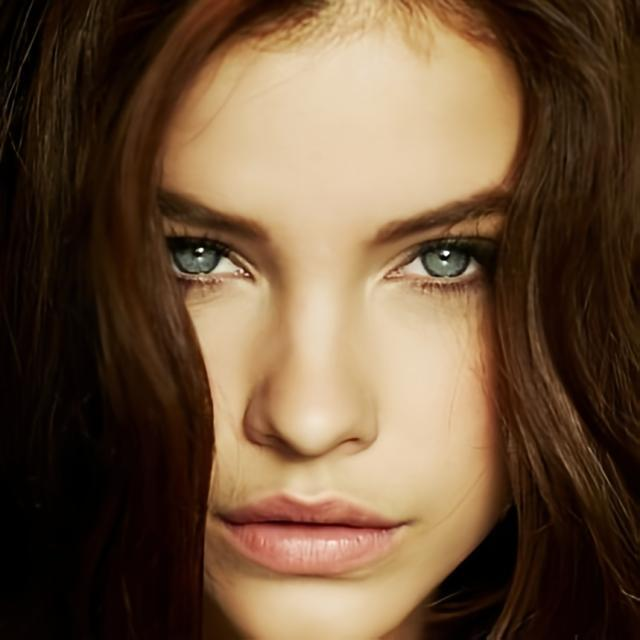neutral: (133, 0, 538, 640)
